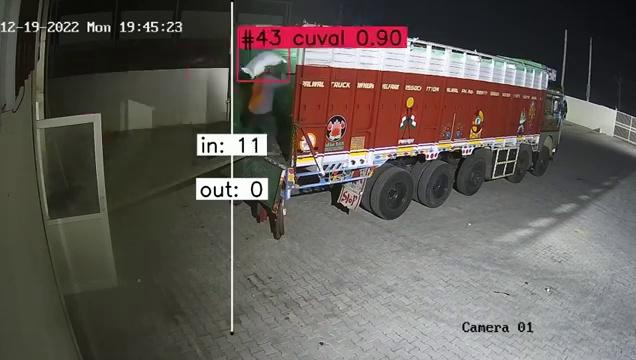karung: (241, 50, 287, 80)
